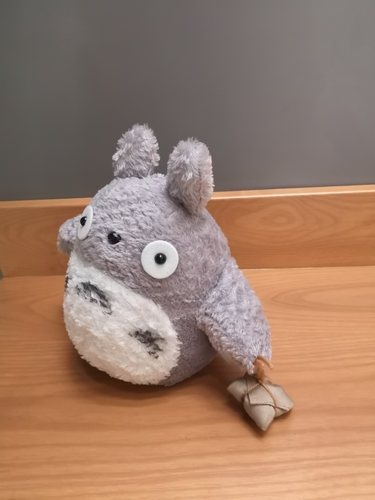totoro: (54, 120, 298, 437)
